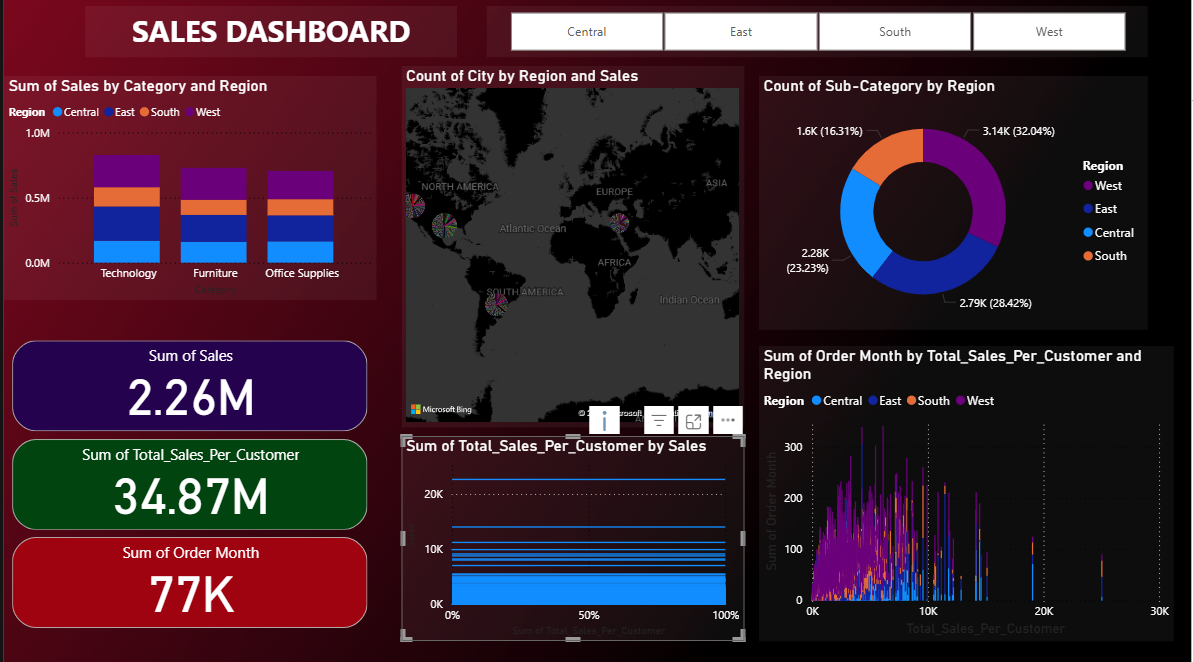

Layout of this report page (visuals, bound fields, positions):
{"tool":"powerbi","page":{"name":"Page 1","canvas":[1280,720],"ordinal":0},"visuals":[{"type":"textbox","box":[87.8,11,400.7,54.9],"z":0},{"type":"columnChart","fields":{"Y":["Sum(Sales_project.Sales)"],"Category":["Sales_project.Category"],"Series":["Sales_project.Region"]},"box":[0,86.3,401.6,241.2],"z":1000},{"type":"donutChart","fields":{"Category":["Sales_project.Region"],"Y":["CountNonNull(Sales_project.Sub-Category)"]},"box":[814,86.3,419.1,273.6],"z":2000},{"type":"cardVisual","fields":{"Data":["Sum(Sales_project.Sales)","Sum(Sales_project.Total_Sales_Per_Customer)","Sum(Sales_project.Order Month)"]},"box":[0,362.5,401.6,332.9],"z":3000},{"type":"lineStackedColumnComboChart","fields":{"Category":["Sales_project.Total_Sales_Per_Customer"],"Series":["Sales_project.Region"],"Y":["Sum(Sales_project.Order Month)"]},"box":[814,377.3,447.4,318],"z":4000},{"type":"slicer","fields":{"Values":["Sales_project.Region"]},"box":[520.2,10.8,712.9,55.3],"z":4001},{"type":"map","fields":{"Series":["Sales_project.Sales"],"Category":["Sales_project.Region"],"Size":["CountNonNull(Sales_project.City)"]},"box":[428.6,75.5,369.3,389.5],"z":4002},{"type":"hundredPercentStackedBarChart","fields":{"Category":["Sales_project.Sales"],"Y":["Sum(Sales_project.Total_Sales_Per_Customer)"]},"box":[428.6,474.4,369.3,221],"z":4003}]}

Visuals, with their boxes in screenshot pixels (x1, y1, x2, y2), scaled from the page's 1280x720 canvas onto the 1193x662 screenshot:
textbox: (82, 10, 455, 61)
columnChart - Sum(Sales_project.Sales) x Sales_project.Category: (0, 79, 374, 301)
donutChart - Sales_project.Region x CountNonNull(Sales_project.Sub-Category): (759, 79, 1149, 331)
cardVisual - Sum(Sales_project.Sales) x Sum(Sales_project.Total_Sales_Per_Customer): (0, 333, 374, 639)
lineStackedColumnComboChart - Sales_project.Total_Sales_Per_Customer x Sales_project.Region: (759, 347, 1176, 639)
slicer - Sales_project.Region: (485, 10, 1149, 61)
map - Sales_project.Sales x Sales_project.Region: (399, 69, 744, 428)
hundredPercentStackedBarChart - Sales_project.Sales x Sum(Sales_project.Total_Sales_Per_Customer): (399, 436, 744, 639)
